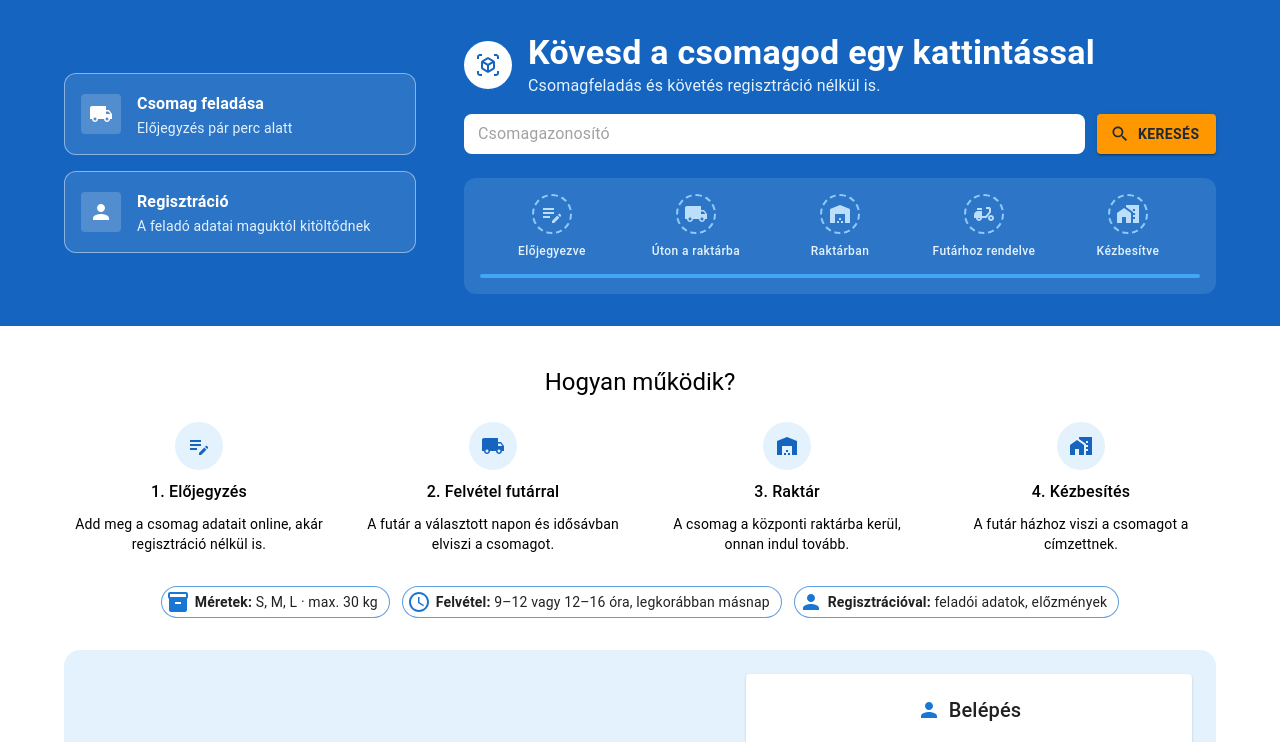
Test: Nyilvános követés › szerverhiba esetén a kereső alatt jelez
Type "77011983-e714-47b2-9bbb-cb3058c81a2e" into the field labelled "Csomagazonosító" at (775,134), box [464,114,1085,154]
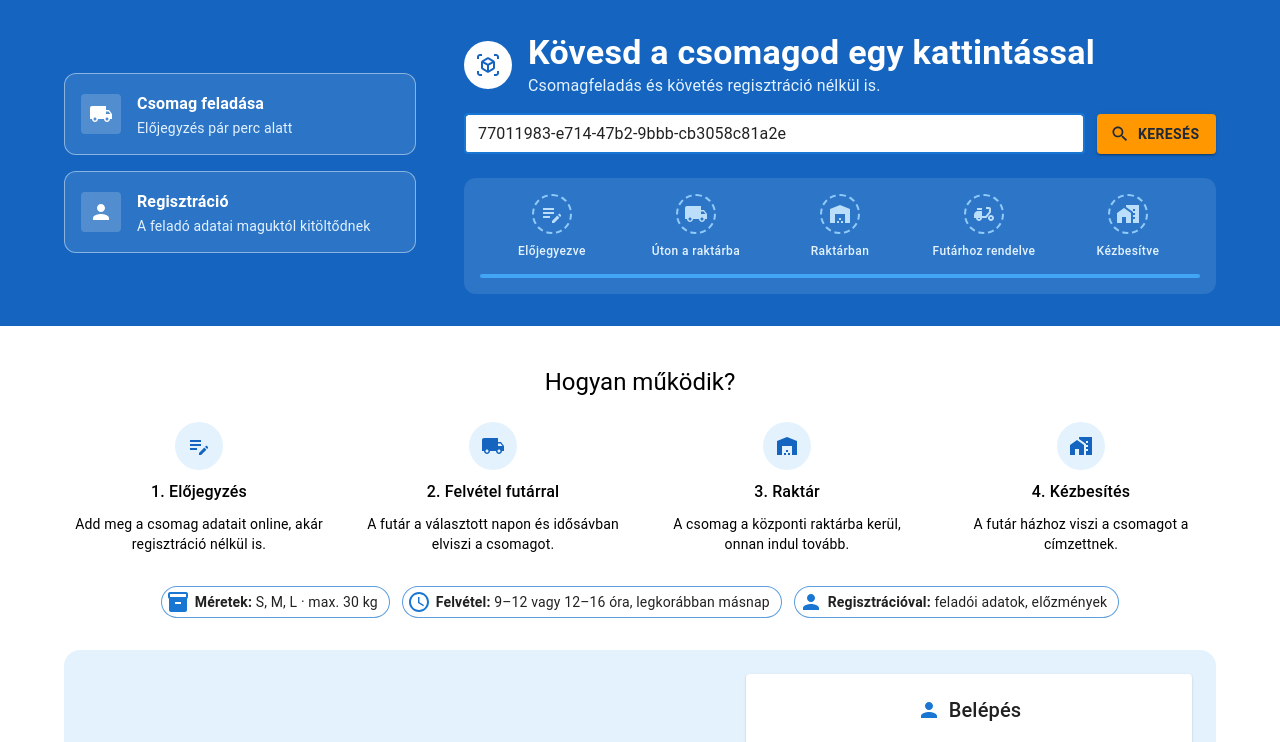
Click the button "Keresés" at (1157,134), box [1097,114,1216,154]
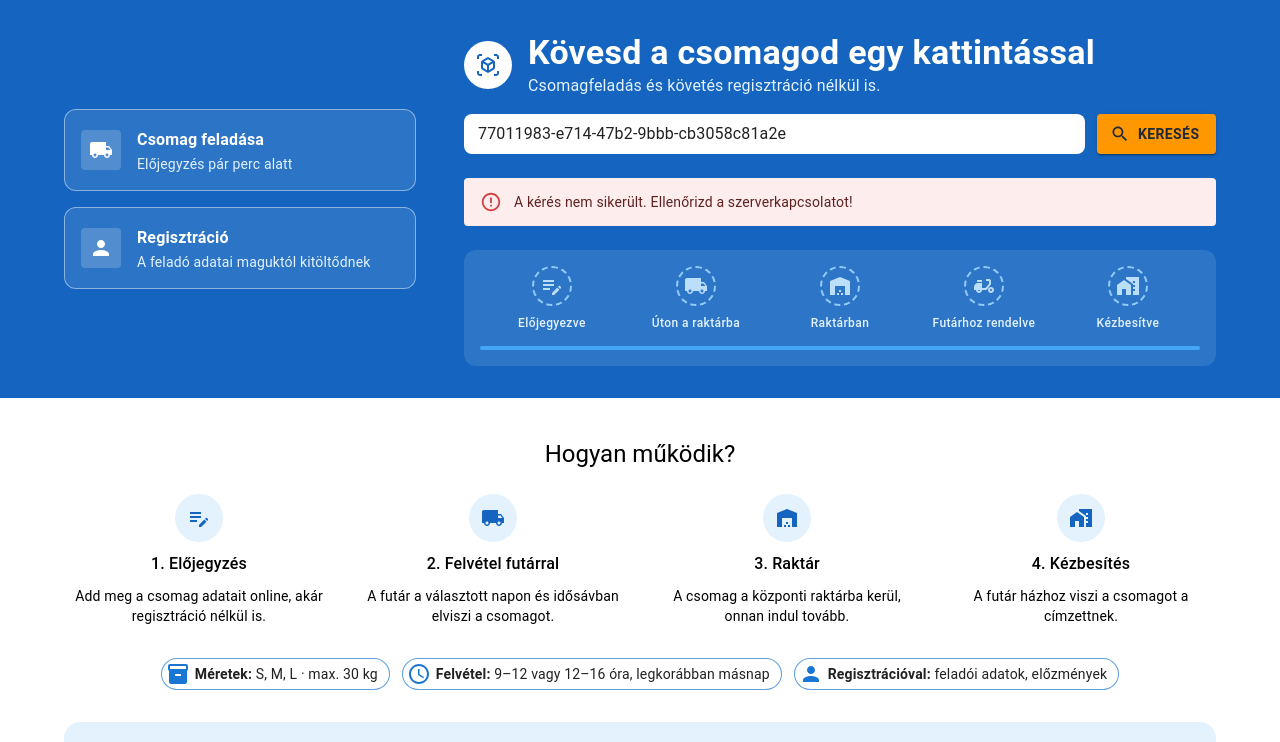
Expected: the message shows "Ellenőrizd a szerverkapcsolatot!", [514,194,853,210]
